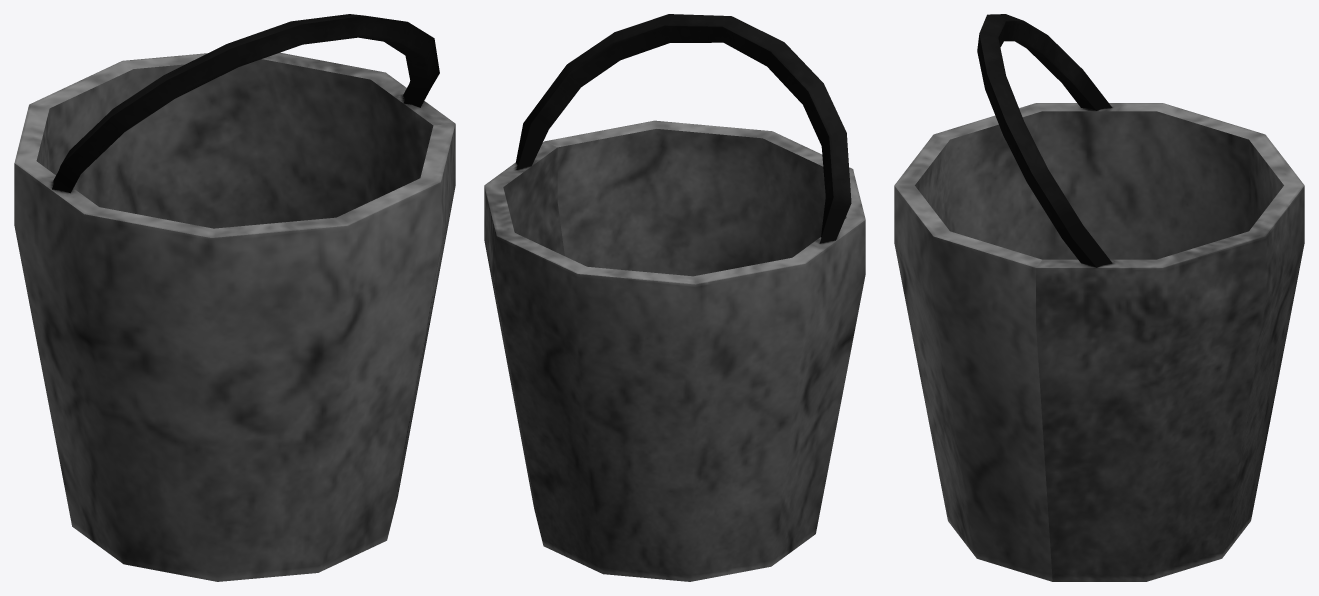
Rendered from prop_debris_small_balde.glb.
3 renders of one model, left to right at view 1: azimuth 30°, elevation 25°; view 2: azimuth 150°, elevation 25°; view 3: azimuth 270°, elevation 25°, orthographic. The views are drawn at different scales.
Visible parts, largest first — view 1: prop_debris_small_balde_mesh; view 2: prop_debris_small_balde_mesh; view 3: prop_debris_small_balde_mesh.
Boxes of the visible parts, x1=… form: prop_debris_small_balde_mesh: x1=14, y1=14, x2=455, y2=581; prop_debris_small_balde_mesh: x1=484, y1=14, x2=865, y2=581; prop_debris_small_balde_mesh: x1=894, y1=14, x2=1304, y2=581.
Bounding box in the file's own units: 0.2965 × 0.4 × 0.305.
Materials: 1 (1 with a texture image).
